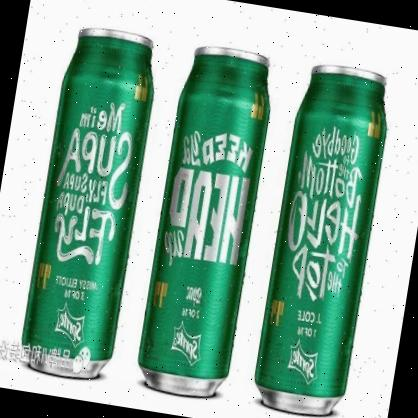can: (133, 38, 285, 402), (16, 22, 168, 383), (248, 58, 400, 418)
